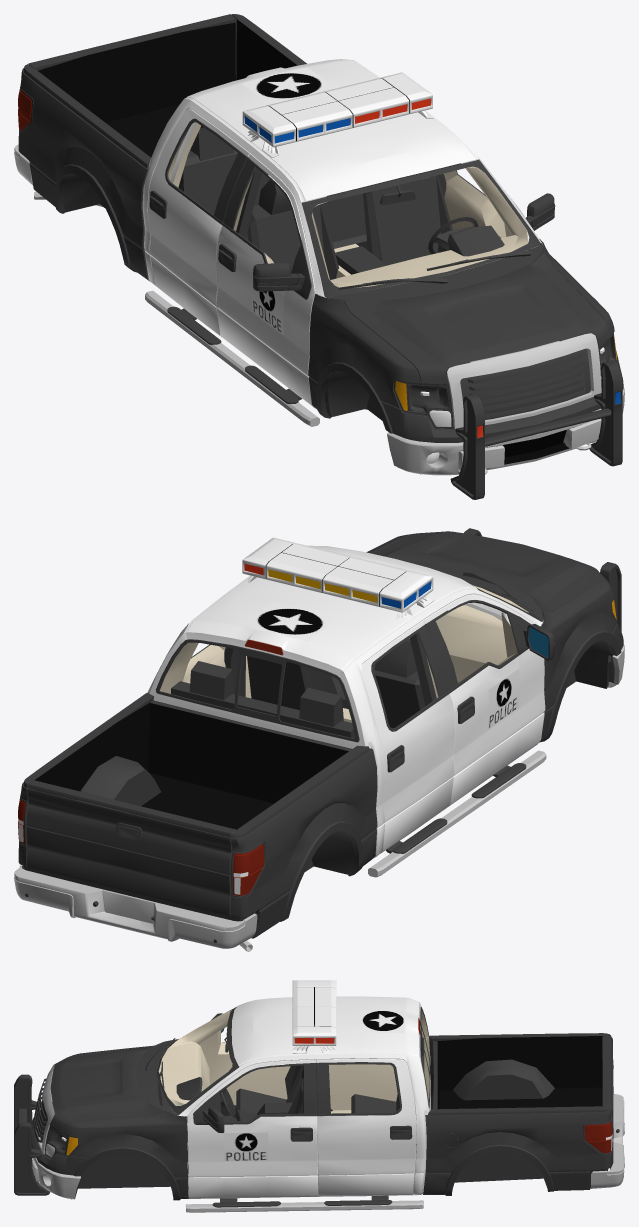
The model's file is SUVPolice.fbx.
3 renders of one model, top to bottom at view 1: azimuth 30°, elevation 25°; view 2: azimuth 150°, elevation 25°; view 3: azimuth 270°, elevation 25°, orthographic. The views are drawn at different scales.
Parts seen in each view (by area): view 1: Pickup.001, Pickup, Pickup.018, Pickup.016, Pickup.013, Pickup.021, car3, Pickup.014, Pickup.007, Pickup.020, Pickup.015, Pickup.022 (+9 smaller); view 2: Pickup.001, Pickup.016, Pickup, Pickup.013, Pickup.018, Pickup.007, Pickup.021, Pickup.020, Pickup.022, Pickup.019, CAR116, CAR115 (+7 smaller); view 3: Pickup.001, Pickup, Pickup.016, Pickup.018, Pickup.013, Pickup.021, Pickup.007, Pickup.020, car3, Pickup.022, Pickup.017, Pickup.010 (+9 smaller).
Part boxes in pixels (<box>): Pickup.001: <box>142,59,542,407</box>; Pickup: <box>63,127,617,474</box>; Pickup.018: <box>308,239,623,442</box>; Pickup.016: <box>18,14,306,281</box>; Pickup.013: <box>38,19,297,157</box>; Pickup.021: <box>147,123,527,408</box>; car3: <box>450,360,622,499</box>; Pickup.014: <box>447,333,601,429</box>; Pickup.007: <box>14,144,601,474</box>; Pickup.020: <box>165,118,537,299</box>; Pickup.015: <box>301,159,540,296</box>; Pickup.022: <box>241,67,336,334</box>; Pickup.001: <box>147,545,545,858</box>; Pickup.016: <box>18,692,377,938</box>; Pickup: <box>22,572,617,942</box>; Pickup.013: <box>35,702,348,837</box>; Pickup.018: <box>366,531,623,742</box>; Pickup.007: <box>14,750,546,951</box>; Pickup.021: <box>160,585,528,824</box>; Pickup.020: <box>191,600,530,731</box>; Pickup.022: <box>241,602,519,729</box>; Pickup.019: <box>156,639,359,742</box>; CAR116: <box>266,552,336,592</box>; CAR115: <box>323,566,393,606</box>; Pickup.001: <box>177,996,430,1198</box>; Pickup: <box>33,1013,623,1207</box>; Pickup.016: <box>423,1033,613,1195</box>; Pickup.018: <box>31,1039,188,1200</box>; Pickup.013: <box>437,1036,602,1109</box>; Pickup.021: <box>158,1010,429,1152</box>; Pickup.007: <box>32,1094,624,1212</box>; Pickup.020: <box>193,1042,401,1124</box>; car3: <box>14,1074,50,1195</box>; Pickup.022: <box>223,1009,404,1160</box>; Pickup.017: <box>134,1039,178,1115</box>; Pickup.010: <box>33,1157,80,1199</box>.
Size of the model in its own units: 2.54 by 1.91 by 6.27.
